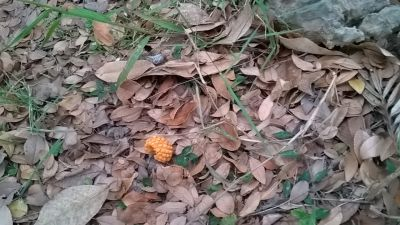eggs: (145, 136, 175, 163)
